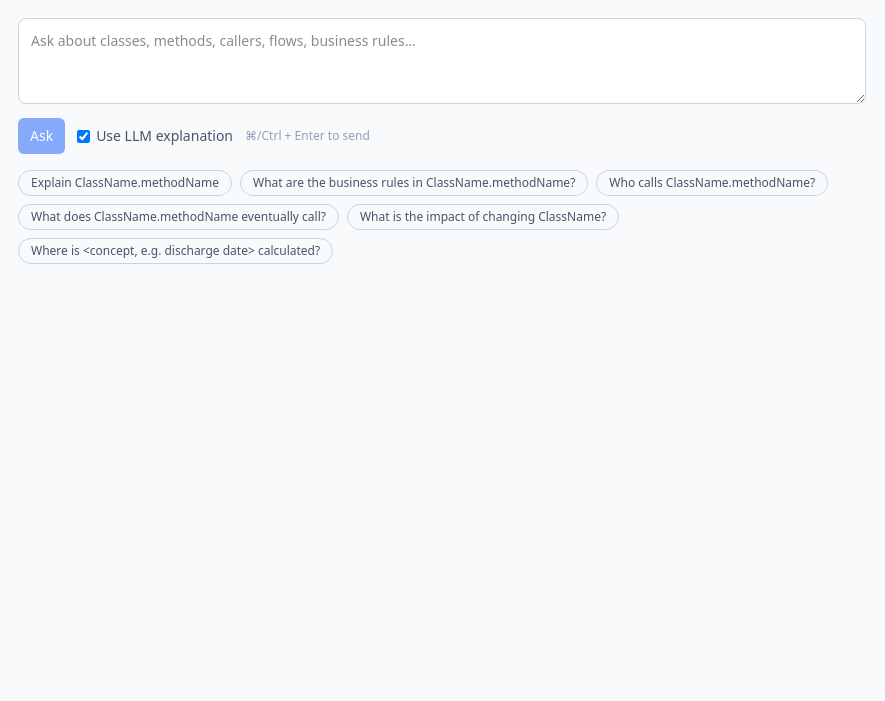
Scenario: AskPage › asks a question and renders facts, interpretation, path and evidence
Step 1. Type "What does A eventually call?" into the text box named "Question" → (442, 61), box x1=18 y1=18 x2=866 y2=104
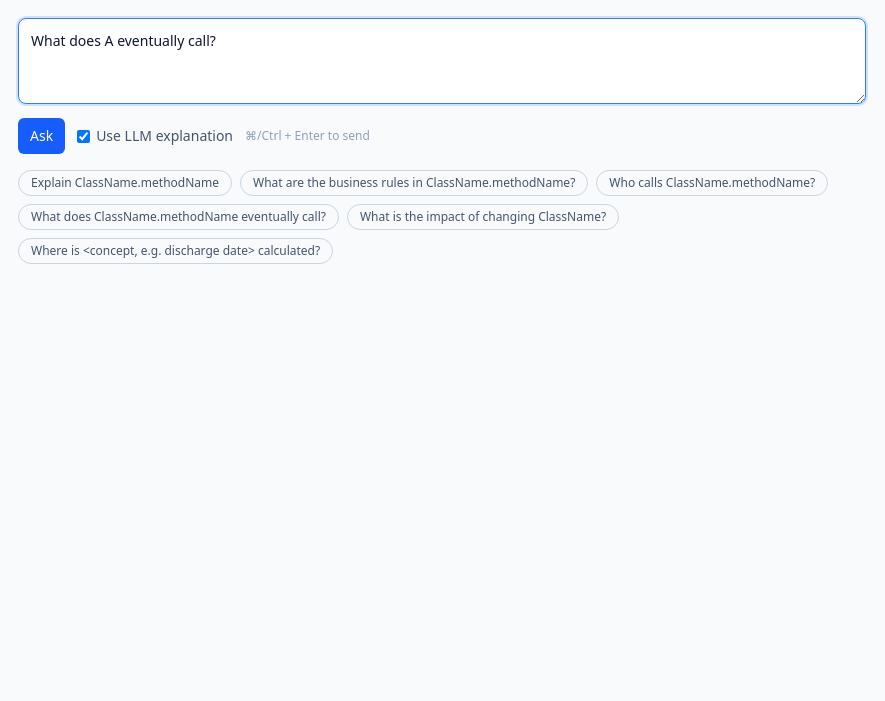
Step 2. Click the button "Ask" → (42, 136), box x1=18 y1=118 x2=65 y2=154
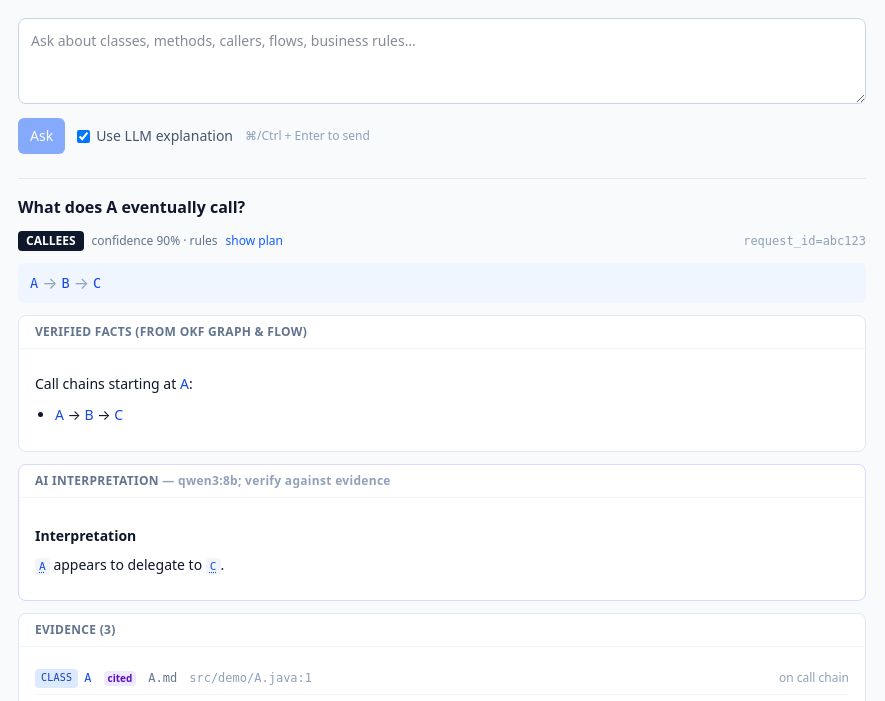
Check: the text "CALLEES" is shown, box x1=18 y1=231 x2=84 y2=251
Check: the buttons read "A", "B", "C", in this order, box x1=30 y1=273 x2=38 y2=293; x1=62 y1=273 x2=70 y2=293; x1=93 y1=273 x2=101 y2=293
Check: the heading "AI interpretation — qwen3:8b; verify against evidence" is shown, box x1=35 y1=472 x2=391 y2=488
